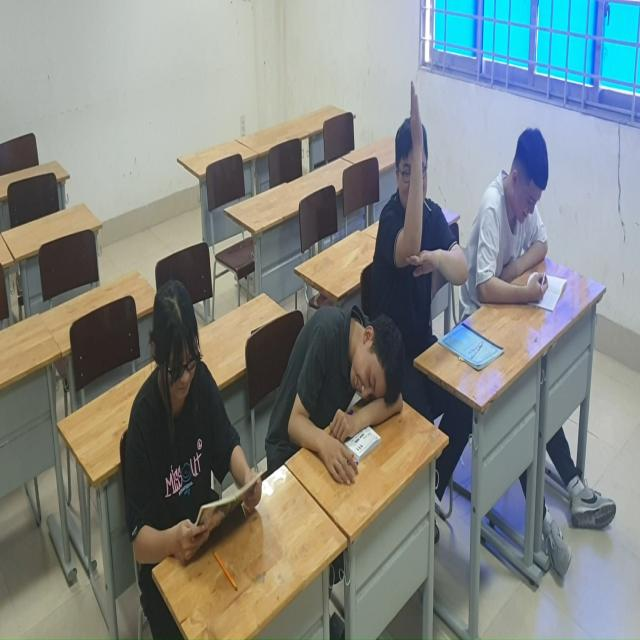raise_hand: (376, 91, 470, 368)
read: (121, 275, 267, 583), (475, 129, 572, 320)
sleep: (264, 288, 408, 499)
